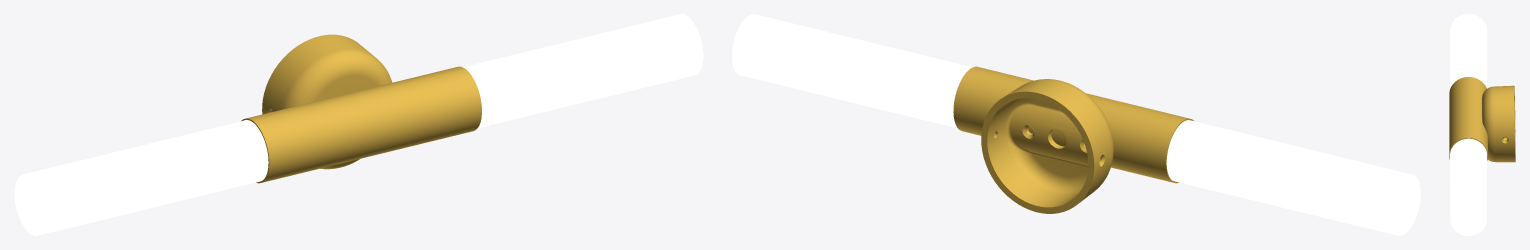
Rendered from arevik_alunta.glb.
The picture shows the model from 3 angles, left to right: view 1: azimuth 30°, elevation 25°; view 2: azimuth 150°, elevation 25°; view 3: azimuth 270°, elevation 25°; orthographic projection. The views are drawn at different scales.
Parts seen in each view (by area): view 1: Assem plaxy mirror v2 - Plaxy Pipe - 12pd2001021-12-01-3, Assem plaxy mirror v2 - Main Pipe - 12pd2001021-11-01-1, Assem plaxy mirror v2 - Plaxy Pipe - 12pd2001021-12-01-1, Assem plaxy mirror v2 - 12pd2001023-02-1, Assem plaxy mirror v2 - Plaxy Cap - 12pd2001023-16-01-1; view 2: Assem plaxy mirror v2 - Plaxy Pipe - 12pd2001021-12-01-3, Assem plaxy mirror v2 - Plaxy Pipe - 12pd2001021-12-01-1, Assem plaxy mirror v2 - 12pd2001023-02-1, Assem plaxy mirror v2 - Main Pipe - 12pd2001021-11-01-1, Assem plaxy mirror v2 - Plaxy Cap - 12pd2001023-16-01-1; view 3: Assem plaxy mirror v2 - Plaxy Pipe - 12pd2001021-12-01-1, Assem plaxy mirror v2 - Plaxy Pipe - 12pd2001021-12-01-3, Assem plaxy mirror v2 - 12pd2001023-02-1, Assem plaxy mirror v2 - Main Pipe - 12pd2001021-11-01-1, Assem plaxy mirror v2 - Plaxy Cap - 12pd2001023-16-01-2.
Boxes of the visible parts, <box> form: Assem plaxy mirror v2 - Plaxy Pipe - 12pd2001021-12-01-3: <box>14,120,268,235</box>; Assem plaxy mirror v2 - Main Pipe - 12pd2001021-11-01-1: <box>241,66,481,183</box>; Assem plaxy mirror v2 - Plaxy Pipe - 12pd2001021-12-01-1: <box>463,14,703,128</box>; Assem plaxy mirror v2 - 12pd2001023-02-1: <box>262,34,392,169</box>; Assem plaxy mirror v2 - Plaxy Cap - 12pd2001023-16-01-1: <box>16,180,42,230</box>; Assem plaxy mirror v2 - Plaxy Pipe - 12pd2001021-12-01-3: <box>1166,120,1420,235</box>; Assem plaxy mirror v2 - Plaxy Pipe - 12pd2001021-12-01-1: <box>732,14,972,128</box>; Assem plaxy mirror v2 - 12pd2001023-02-1: <box>981,79,1113,213</box>; Assem plaxy mirror v2 - Main Pipe - 12pd2001021-11-01-1: <box>953,66,1193,183</box>; Assem plaxy mirror v2 - Plaxy Cap - 12pd2001023-16-01-1: <box>1392,180,1418,230</box>; Assem plaxy mirror v2 - Plaxy Pipe - 12pd2001021-12-01-1: <box>1450,138,1486,235</box>; Assem plaxy mirror v2 - Plaxy Pipe - 12pd2001021-12-01-3: <box>1450,14,1487,88</box>; Assem plaxy mirror v2 - 12pd2001023-02-1: <box>1482,85,1515,162</box>; Assem plaxy mirror v2 - Main Pipe - 12pd2001021-11-01-1: <box>1449,77,1487,160</box>; Assem plaxy mirror v2 - Plaxy Cap - 12pd2001023-16-01-2: <box>1453,205,1483,232</box>.
Bounding box in the file's own units: 2.95 × 0.5062 × 0.4399.
